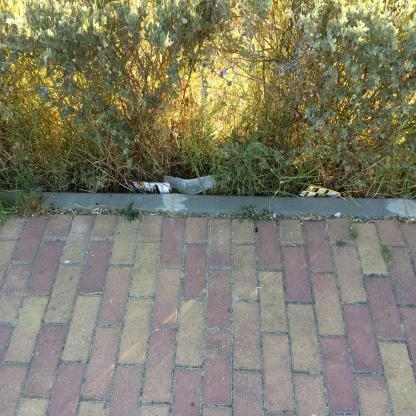kagit: (165, 176, 217, 196), (126, 180, 174, 196), (298, 186, 342, 198)
